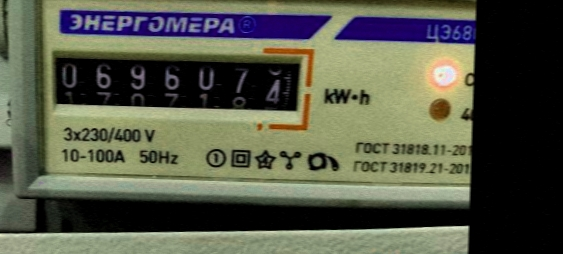0: (59, 59, 79, 88), (195, 62, 215, 90)
4: (263, 76, 282, 105)
6: (162, 61, 181, 90), (93, 61, 112, 88)
7: (230, 63, 250, 94)
9: (127, 62, 146, 91)
screen: (37, 35, 319, 131)
